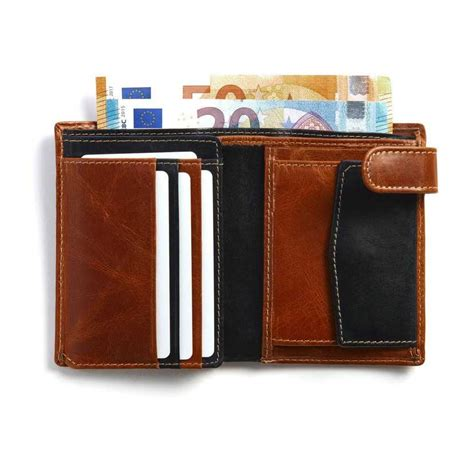cuero: (53, 118, 439, 371)
